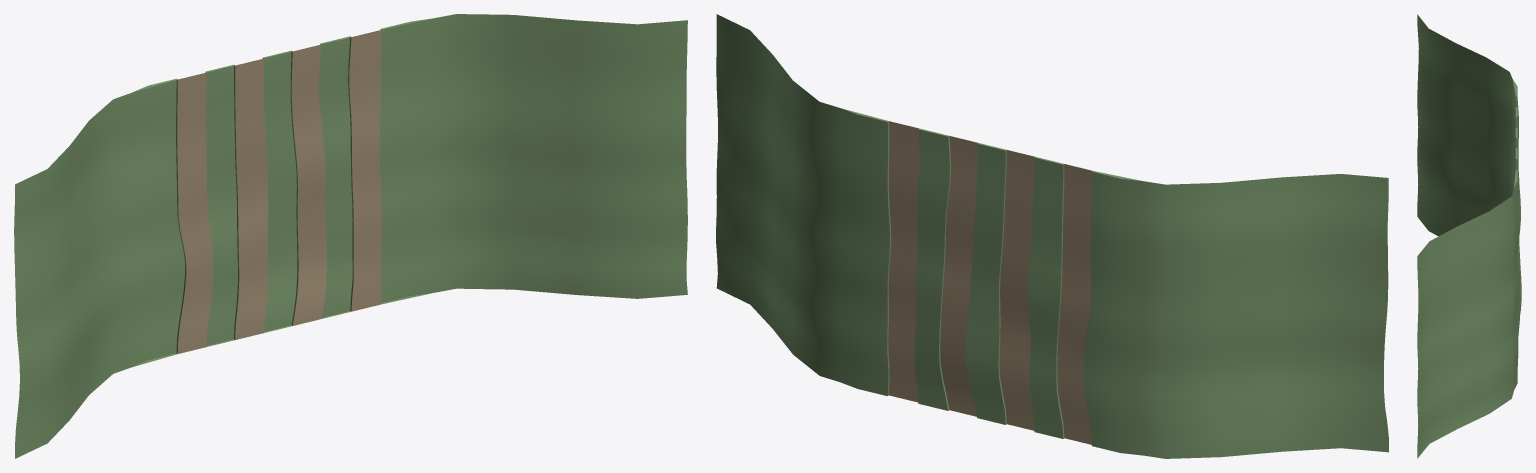
Rendered from RacetrackHill.fbx.
3 views of the same model, side by side, from view 1: azimuth 30°, elevation 25°; view 2: azimuth 150°, elevation 25°; view 3: azimuth 270°, elevation 25° (orthographic). The views are drawn at different scales.
Visible parts, largest first — view 1: RacetrackHill; view 2: RacetrackHill; view 3: RacetrackHill.
Part boxes in pixels (x1,y1,x2,y2): RacetrackHill: (14,14,687,458); RacetrackHill: (716,14,1388,458); RacetrackHill: (1417,14,1521,458).
Bounding box in the file's own units: 5130 × 2000 × 934.
